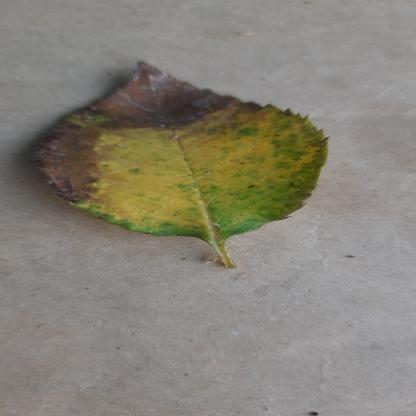black-spot: (29, 58, 347, 242)
